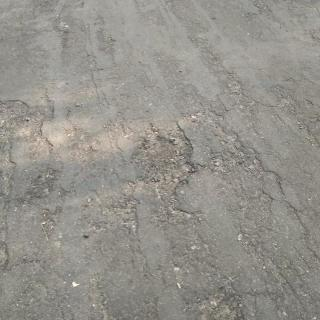pothole: (0, 98, 63, 270), (137, 121, 197, 202)
